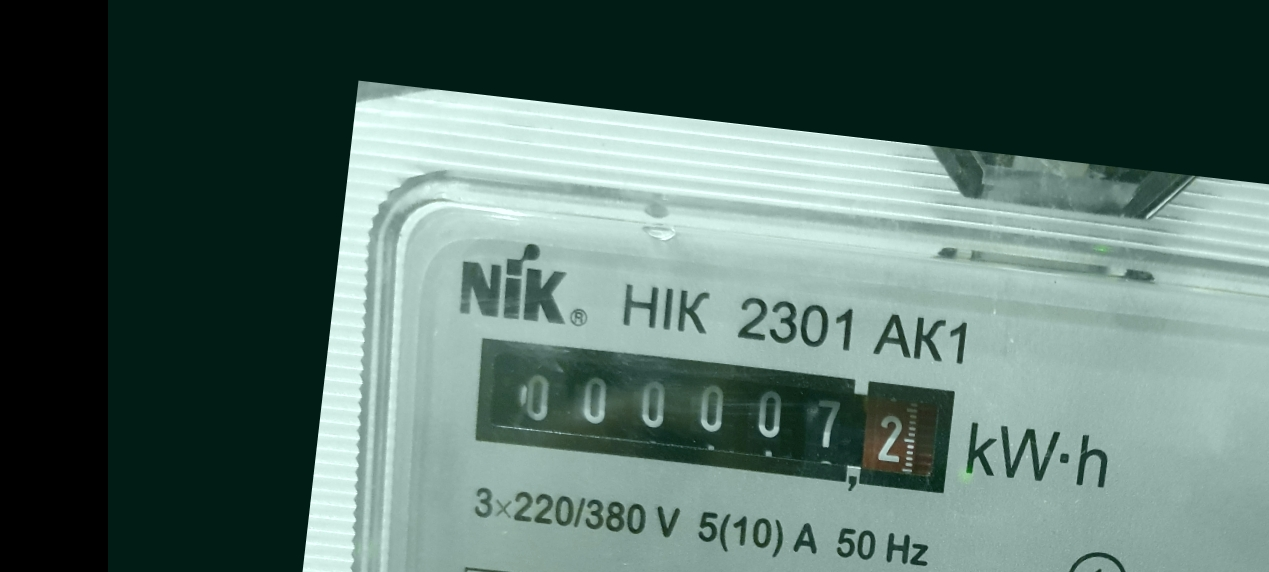0: (576, 371, 616, 426), (694, 379, 731, 435), (752, 386, 789, 442), (636, 375, 673, 430), (520, 369, 557, 423)
2: (873, 411, 909, 465)
7: (810, 394, 845, 451)
screen: (452, 316, 978, 515)
